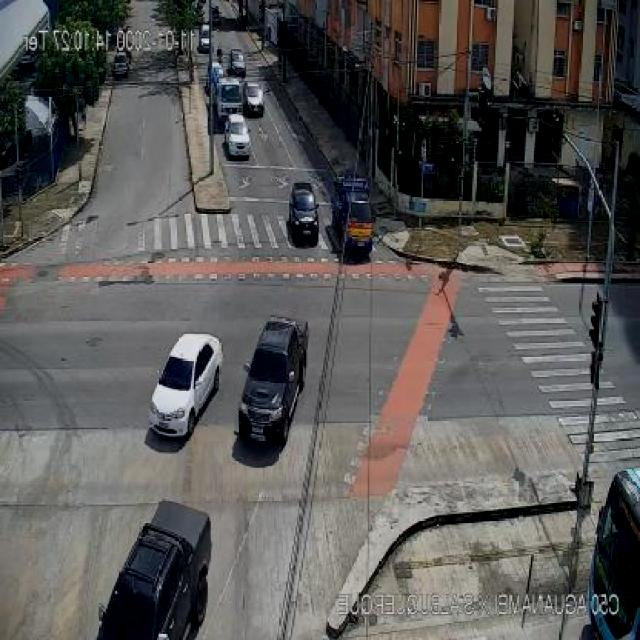Car: (93, 500, 210, 639), (131, 323, 228, 443), (236, 318, 307, 444), (287, 182, 319, 244), (224, 114, 252, 158), (242, 82, 265, 116), (113, 51, 130, 79), (229, 49, 246, 76), (197, 24, 211, 52)
Truck: (334, 171, 382, 255), (212, 79, 250, 121)
